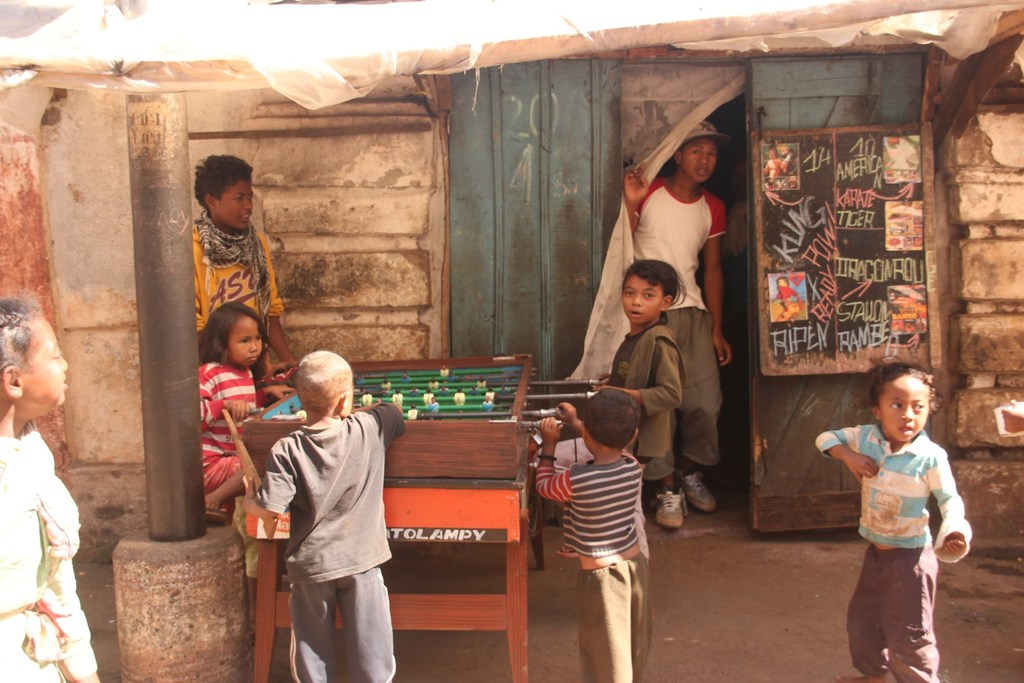Human-face: (17, 317, 70, 415), (880, 378, 929, 447), (214, 173, 253, 229), (227, 318, 268, 366), (623, 277, 659, 325), (682, 142, 716, 181)
